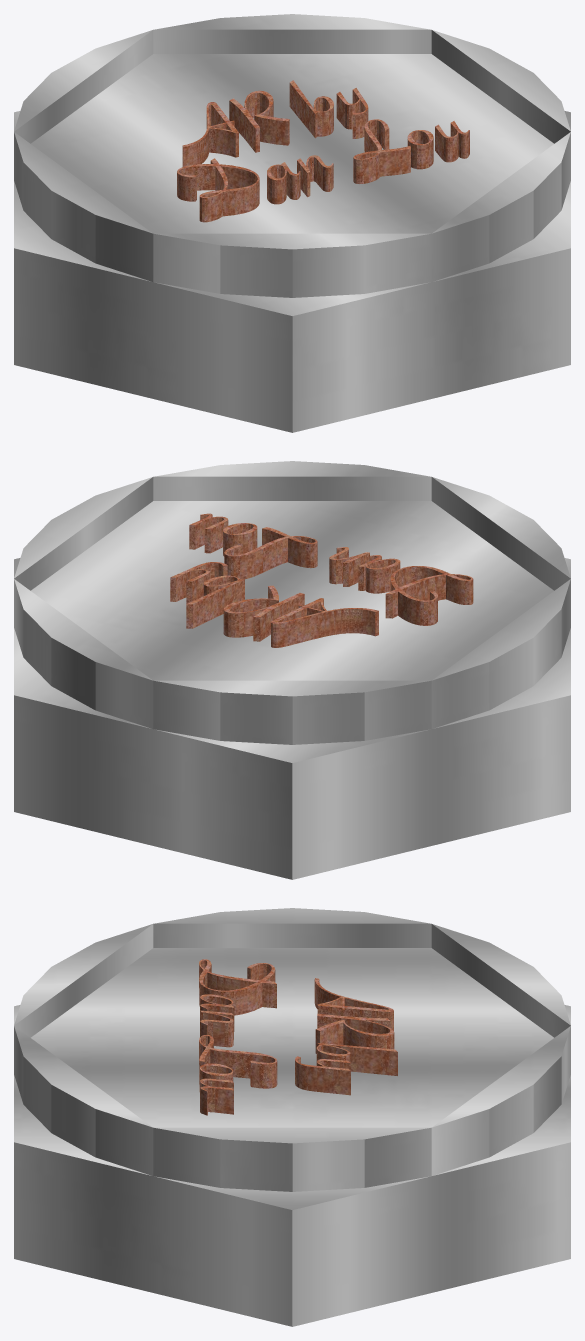
File: sign.glb
3 views of the same model, one above another, from view 1: azimuth 30°, elevation 25°; view 2: azimuth 150°, elevation 25°; view 3: azimuth 270°, elevation 25° (orthographic).
Parts seen in each view (by area): view 1: root, AR by Dan Lou; view 2: root, AR by Dan Lou; view 3: root, AR by Dan Lou.
Boxes of the visible parts, x1,y1,x2,y2 form: root: [14, 14, 570, 432]; AR by Dan Lou: [177, 80, 469, 222]; root: [14, 461, 570, 879]; AR by Dan Lou: [170, 513, 473, 647]; root: [14, 908, 570, 1326]; AR by Dan Lou: [199, 959, 397, 1115].
Bounding box in the file's own units: 0.12 × 0.034 × 0.1039.
Materials: 2 (2 with a texture image).
